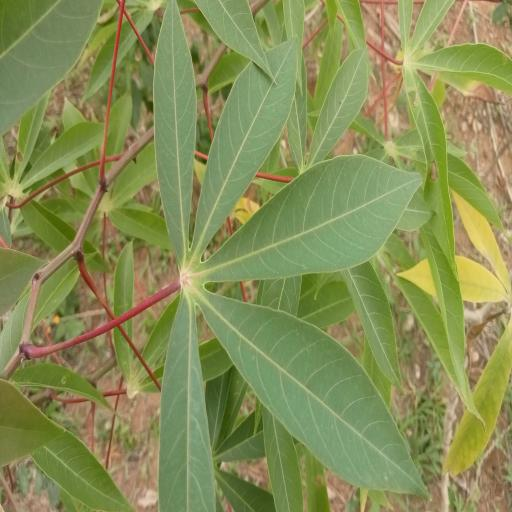Cassava_Healthy: (152, 1, 425, 512)
